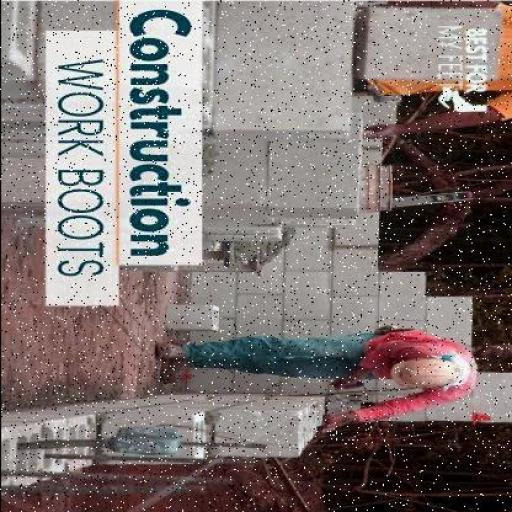person: (146, 319, 476, 434)
safety_shoe: (158, 359, 200, 382), (148, 342, 198, 360)
